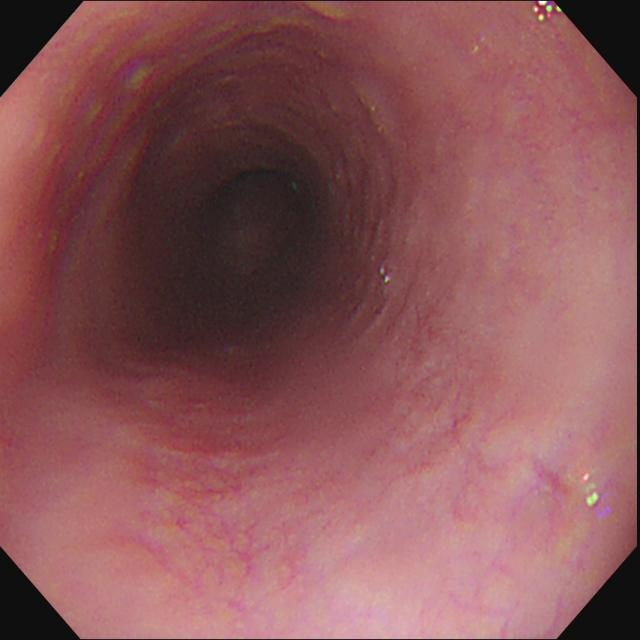E: (211, 173, 302, 300)
U: (584, 473, 613, 520), (532, 2, 563, 23)
